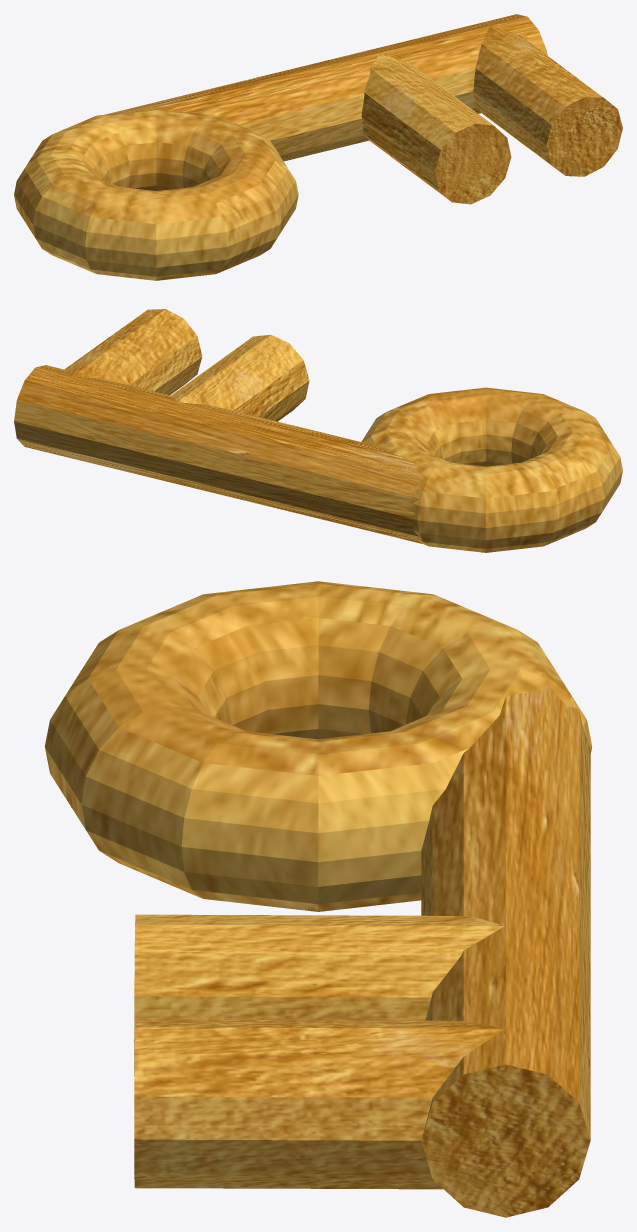
The model's file is Key.fbx.
3 views of the same model, one above another, from view 1: azimuth 30°, elevation 25°; view 2: azimuth 150°, elevation 25°; view 3: azimuth 270°, elevation 25° (orthographic). The views are drawn at different scales.
Parts seen in each view (by area): view 1: Torus, Cylinder, Cylinder.001, Cylinder.002; view 2: Cylinder, Torus, Cylinder.001, Cylinder.002; view 3: Torus, Cylinder, Cylinder.002, Cylinder.001.
Part boxes in pixels (x1,y1,x2,y2): Torus: (14,110,298,280); Cylinder: (105,14,547,161); Cylinder.001: (361,53,511,204); Cylinder.002: (473,26,622,176); Cylinder: (14,365,423,543); Torus: (361,387,622,552); Cylinder.001: (171,334,309,421); Cylinder.002: (64,309,202,395); Torus: (44,581,592,911); Cylinder: (421,685,590,1217); Cylinder.002: (134,1019,505,1189); Cylinder.001: (134,914,504,1075).
Size of the model in its own units: 348 by 49.24 by 158.
